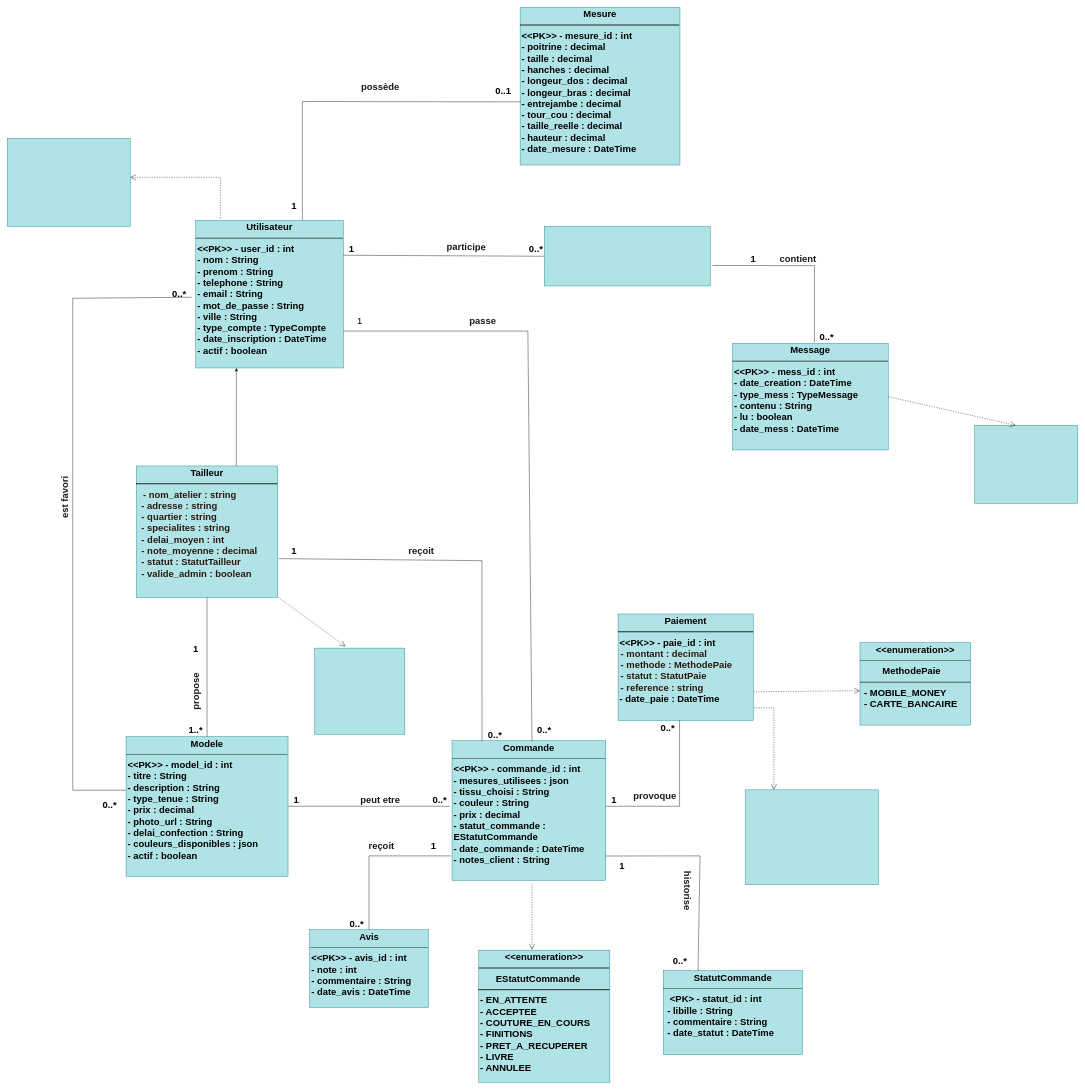
Some shapes in this 1085 by 1089 pixel diagram are drawn without their labels. Each missing label, with the centre of its shape:
"<<enumeration>> StatutPaie - EN_ATTENTE - VALIDE - ECHOUE - REMBOURSE" belongs at [811,837].
"<<enumeration>> StatutTailleur -ACTIF -EN_CONGE -SUSPENDU" belongs at [359,691].
"<<enumeration>> TypeCompte -CLIENT -TAILLEUR -ADMIN" belongs at [68,182].
"<<enumeration>> TypeMessage - TEXTE - AUDIO" belongs at [1026,464].
"Conversation <<PK>> - conversation_id : int - date_creation : DateTime" belongs at [627,256].
